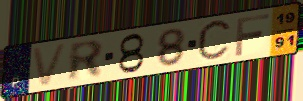8: (155, 27, 188, 68), (118, 32, 147, 75)
C: (195, 16, 234, 65)
F: (233, 12, 272, 58)
R: (67, 39, 105, 84)
V: (30, 41, 70, 89)
